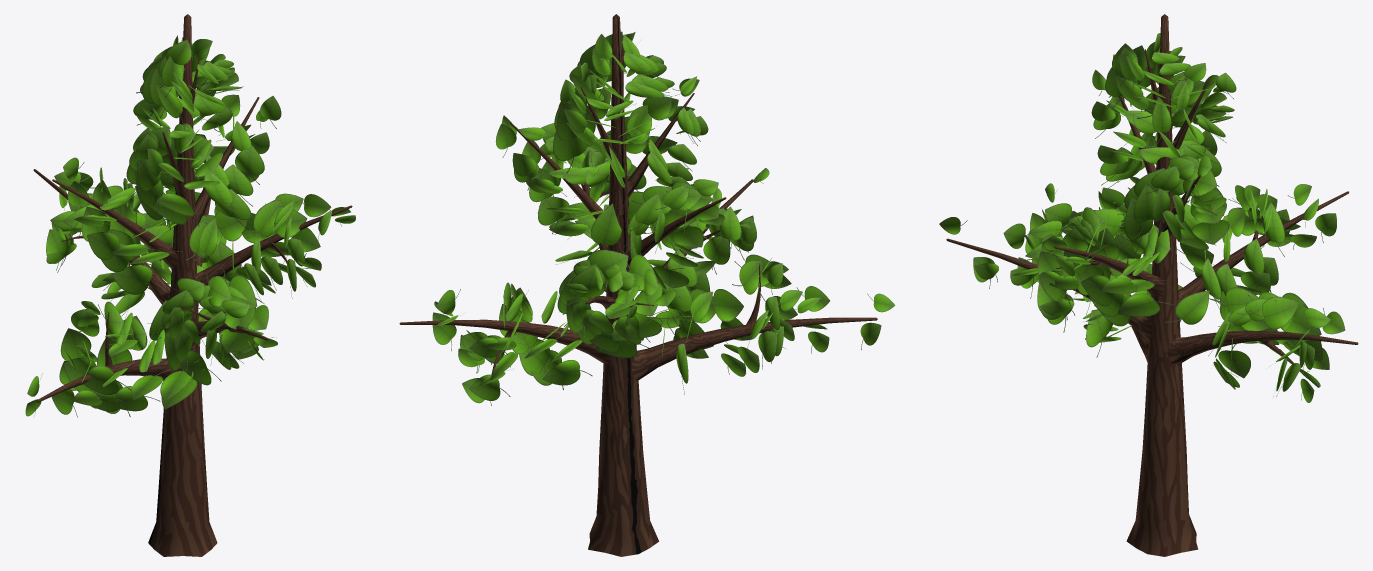
File: Tree.fbx
The picture shows the model from 3 angles, left to right: view 1: azimuth 30°, elevation 25°; view 2: azimuth 150°, elevation 25°; view 3: azimuth 270°, elevation 25°; orthographic projection.
Visible parts, largest first — view 1: Tree_1, Tree_0; view 2: Tree_1, Tree_0; view 3: Tree_1, Tree_0.
Part boxes in pixels (x1,y1,x2,y2): Tree_1: [25, 35, 355, 417]; Tree_0: [33, 14, 352, 556]; Tree_1: [432, 31, 895, 405]; Tree_0: [399, 14, 877, 556]; Tree_1: [939, 33, 1345, 402]; Tree_0: [946, 14, 1358, 556].
Bounding box in the file's own units: 88.72 × 126 × 91.86.
2 materials, 2 textured.
